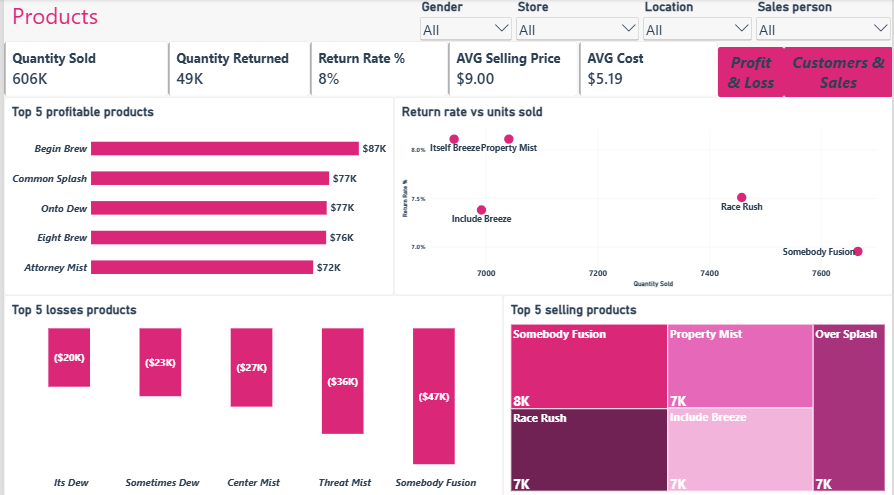

The page's visual inventory and layout, read from the dashboard file:
{"tool":"powerbi","page":{"name":"Products","canvas":[1920,1080],"ordinal":1},"visuals":[{"type":"treemap","title":"Top 5 selling products","fields":{"Group":["products_table.Product Name"],"Values":["Sum(fact_table5.Quantity Sold)"]},"box":[1077.8,639.4,842.4,440.6],"z":0},{"type":"columnChart","title":"Top 5 losses products","fields":{"Category":["products_table.Product Name"],"Y":["Sum(fact_table5.profit Per order)"]},"box":[0,639.4,1077.8,440.6],"z":1000},{"type":"cardVisual","fields":{"Data":["Sum(fact_table5.Quantity Sold)"]},"box":[0,90.7,354.2,121],"z":2000},{"type":"cardVisual","fields":{"Data":["Sum(fact_table5.Quantity Returned)"]},"box":[354.2,90.7,306.7,121],"z":3000},{"type":"cardVisual","fields":{"Data":["fact_table5.Return Rate %"]},"box":[661,90.7,298.1,121],"z":4000},{"type":"barChart","title":"Top 5 profitable products","fields":{"Category":["products_table.Product Name"],"Y":["Sum(fact_table5.profit Per order)"]},"box":[0,211.7,842.4,427.7],"z":5000},{"type":"actionButton","box":[1542.2,103.7,142.6,108],"z":6000},{"type":"actionButton","box":[1684.8,103.7,235.4,108],"z":7000},{"type":"textbox","box":[17.3,2.2,257,88.6],"z":9000},{"type":"slicer","fields":{"Values":["sales_persons_table.Full Name"]},"box":[1619.8,0,300.2,103.7],"z":10000},{"type":"slicer","fields":{"Values":["customers_table.Location"]},"box":[1375.9,0,244.1,103.7],"z":11000},{"type":"slicer","fields":{"Values":["fact_table5.Store"]},"box":[1101.6,0,274.3,103.7],"z":12000},{"type":"slicer","fields":{"Values":["fact_table5.Gender"]},"box":[894.2,0,207.4,103.7],"z":13000},{"type":"cardVisual","fields":{"Data":["Avg(products_table.Sales Price)"]},"box":[959,90.7,280.8,121],"z":14000},{"type":"cardVisual","fields":{"Data":["Avg(products_table.Cost Price)"]},"box":[1242,90.7,300.2,121],"z":15000},{"type":"scatterChart","title":"Return rate vs units sold","fields":{"Category":["products_table.Product Name"],"X":["Sum(fact_table5.Quantity Sold)"],"Y":["fact_table5.Return Rate %"]},"box":[842.4,211.7,1080,427.7],"z":16000}]}

Visuals, with their boxes in screenshot pixels (x1, y1, x2, y2), scaled from the page's 1920x1080 canvas onto the 894x495 screenshot:
"Top 5 selling products" treemap: locate(502, 293, 893, 494)
"Top 5 losses products" columnChart: locate(0, 293, 502, 494)
cardVisual - Sum(fact_table5.Quantity Sold): locate(0, 42, 165, 97)
cardVisual - Sum(fact_table5.Quantity Returned): locate(165, 42, 308, 97)
cardVisual - fact_table5.Return Rate %: locate(308, 42, 447, 97)
"Top 5 profitable products" barChart: locate(0, 97, 392, 293)
actionButton: locate(718, 48, 784, 97)
actionButton: locate(784, 48, 893, 97)
textbox: locate(8, 1, 128, 42)
slicer - sales_persons_table.Full Name: locate(754, 0, 893, 48)
slicer - customers_table.Location: locate(641, 0, 754, 48)
slicer - fact_table5.Store: locate(513, 0, 641, 48)
slicer - fact_table5.Gender: locate(416, 0, 513, 48)
cardVisual - Avg(products_table.Sales Price): locate(447, 42, 577, 97)
cardVisual - Avg(products_table.Cost Price): locate(578, 42, 718, 97)
"Return rate vs units sold" scatterChart: locate(392, 97, 893, 293)
